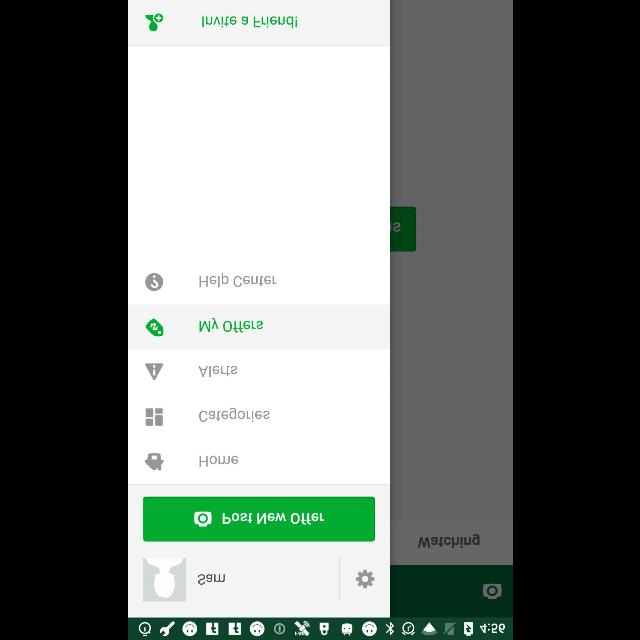icon: (142, 558, 185, 602), (354, 570, 374, 588), (144, 273, 162, 291), (145, 318, 163, 336), (145, 362, 163, 380), (145, 408, 163, 426), (144, 452, 162, 470)
panel: (128, 0, 388, 618)
text: (198, 272, 276, 288), (198, 317, 262, 333), (198, 408, 270, 422), (198, 455, 238, 467), (198, 365, 236, 377), (197, 574, 225, 584)
textbutton: (128, 0, 388, 46), (142, 496, 374, 542)
uppertaskbar: (128, 617, 512, 639)
